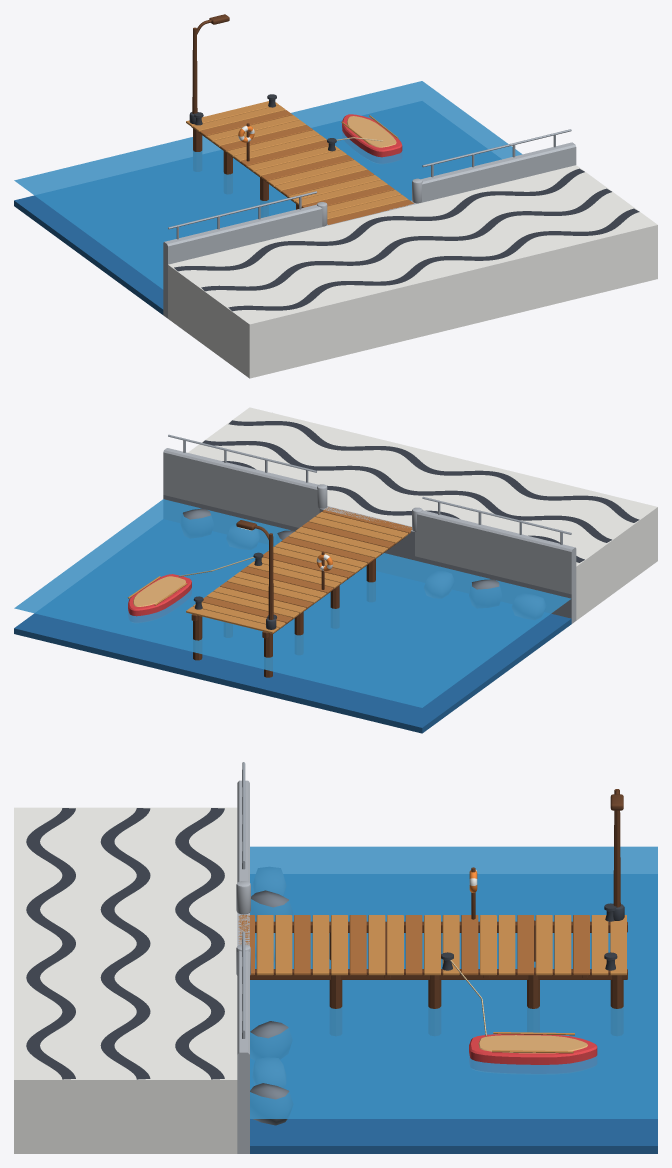
File: cais.glb
3 renders of one model, top to bottom at view 1: azimuth 30°, elevation 25°; view 2: azimuth 150°, elevation 25°; view 3: azimuth 270°, elevation 25°, orthographic. The views are drawn at different scales.
Visible parts, largest first — view 1: cais; view 2: cais; view 3: cais.
Boxes of the visible parts, x1,y1,x2,y2 form: cais: [14, 14, 657, 378]; cais: [14, 407, 657, 733]; cais: [14, 762, 657, 1153].
Size of the model in its own units: 15 by 5.38 by 15.
Materials: 3 (1 with a texture image).
